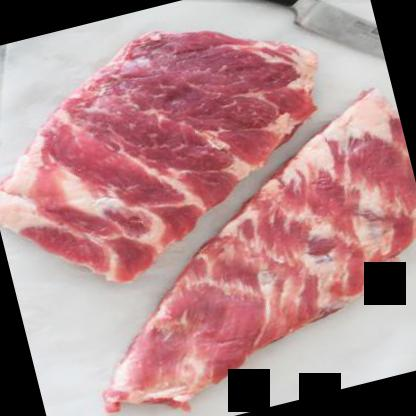pork rib: (49, 88, 415, 415), (0, 0, 358, 305)
